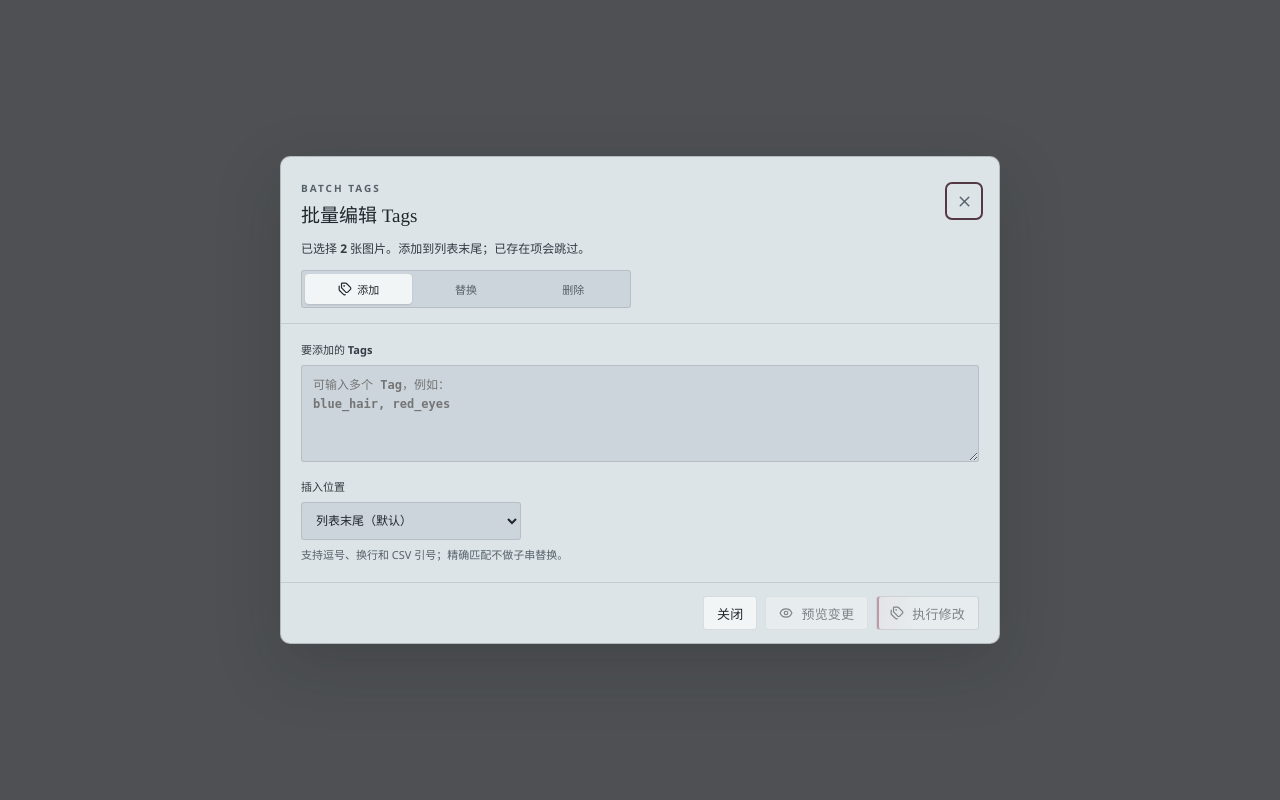
Scenario: batch Tags editing › filters and paginates actual-order details without changing the edit request
Type "new_tag" into the text box labelled "要添加的 Tags" at (640, 414), box [301,365,979,462]
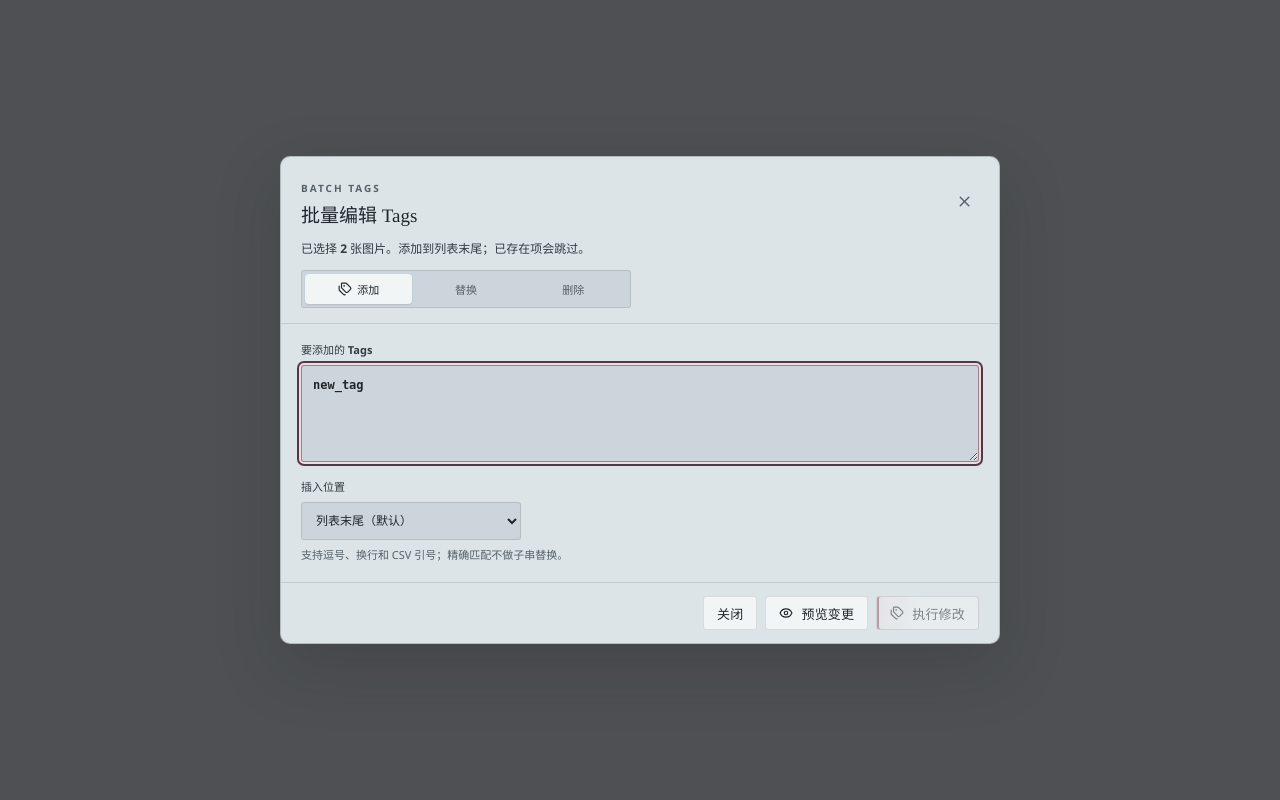
Click the button "预览变更" at (817, 613), box [765,596,868,630]
(page scrolled)
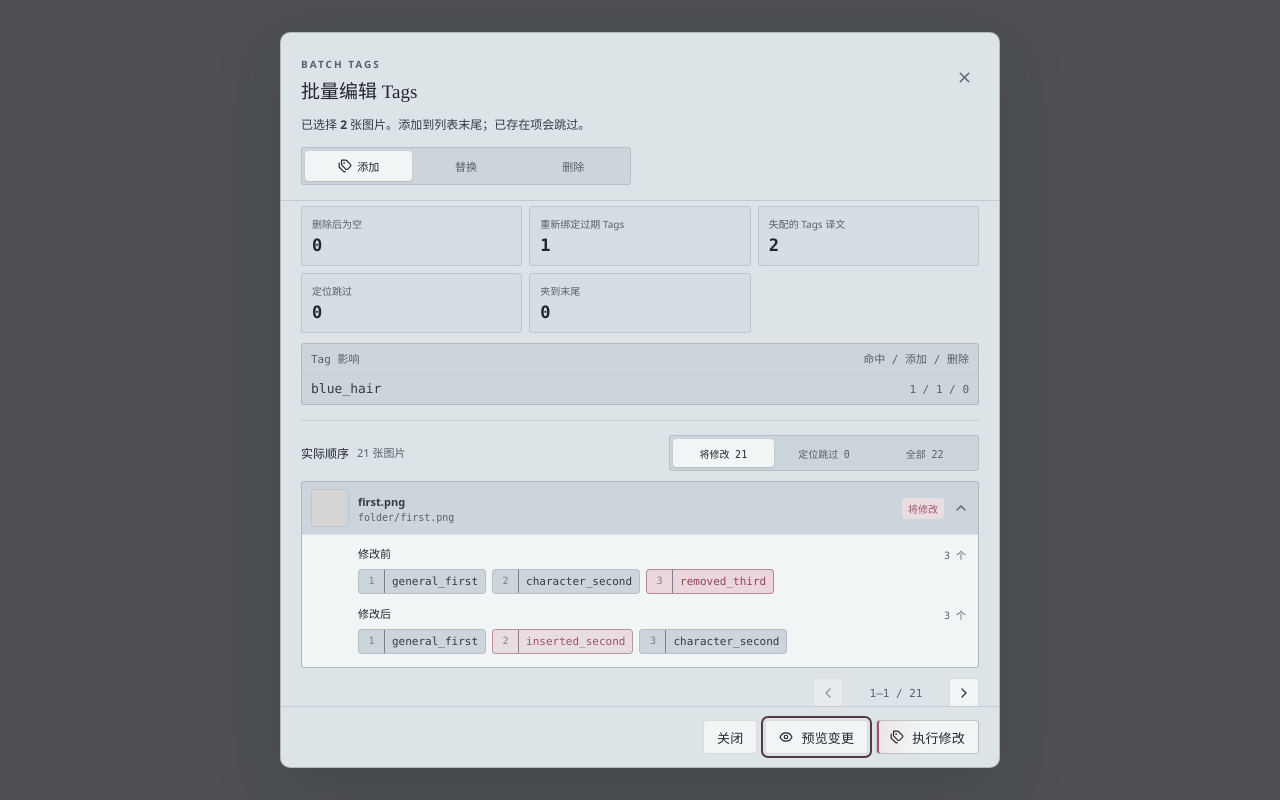
Check: the text "1–1 / 21" is shown, box [870,687,922,700]
Click the button "全部 22" at (925, 454), box [874,440,975,468]
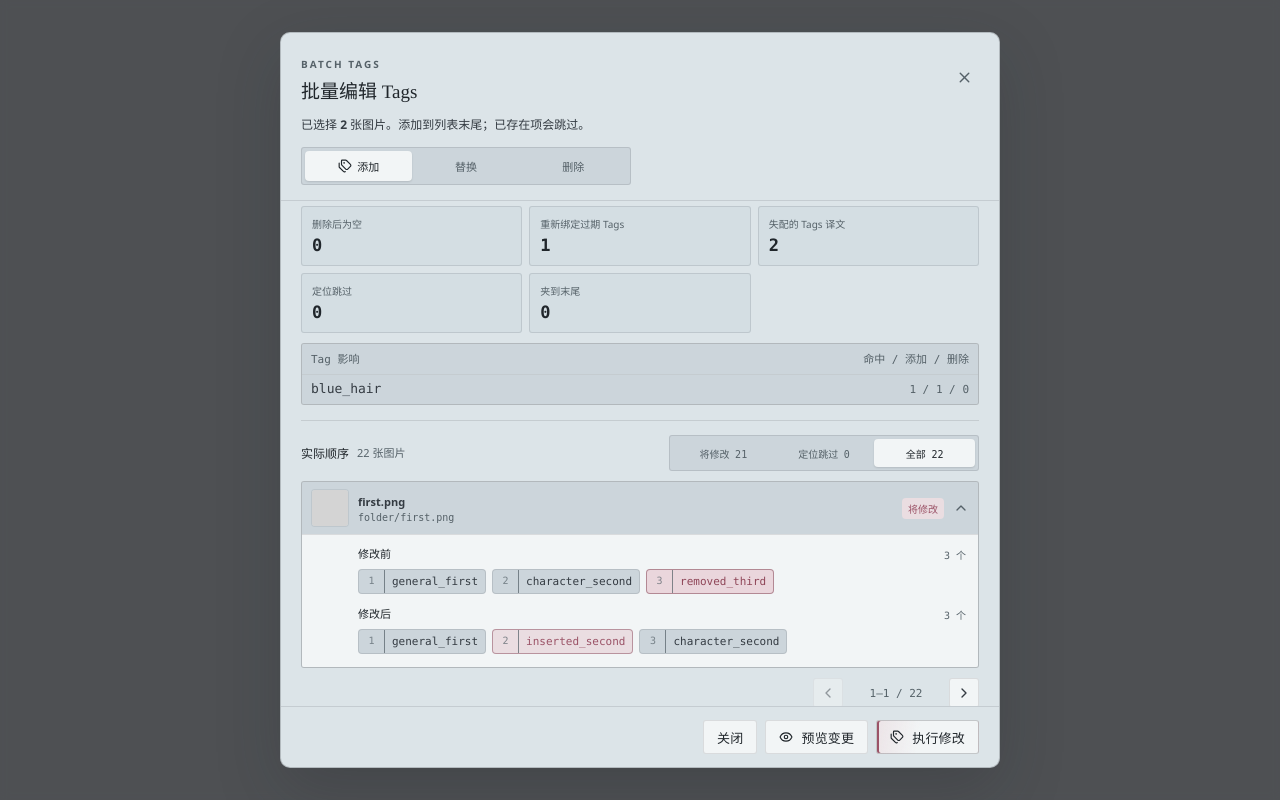
Click the button named "下一页" at (964, 694), box [949,678,979,708]
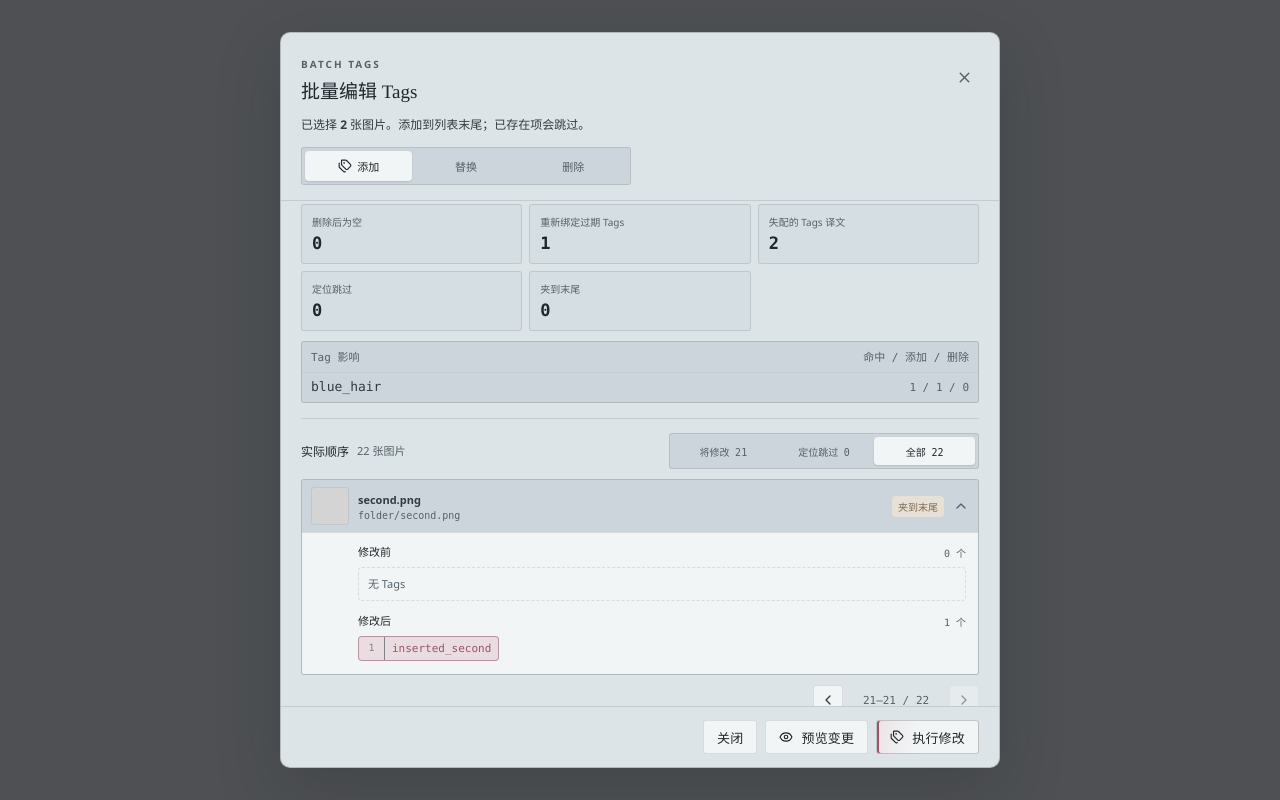
Check: the text "21–21 / 22" is shown, box [863,694,929,706]
